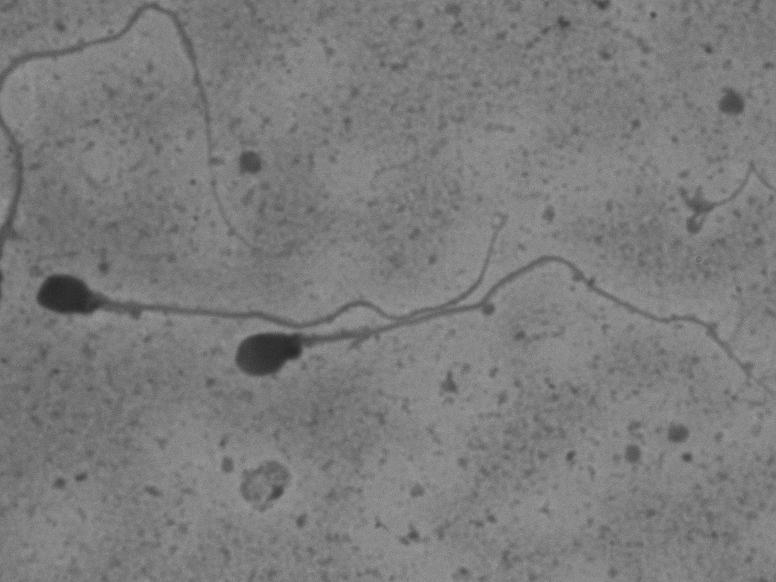Abnormal: (222, 260, 738, 417), (27, 195, 517, 334)
